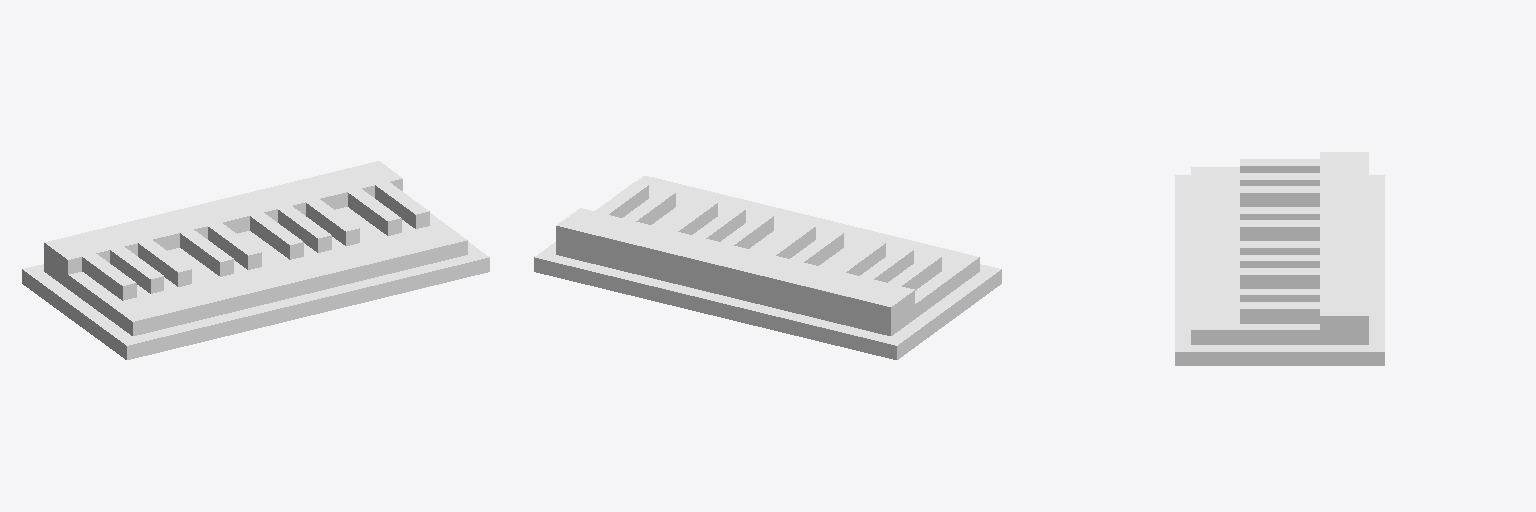
File: piano.obj
3 renders of one model, left to right at view 1: azimuth 30°, elevation 25°; view 2: azimuth 150°, elevation 25°; view 3: azimuth 270°, elevation 25°, orthographic.
Size of the model in its own units: 1.3 by 0.15 by 0.65.